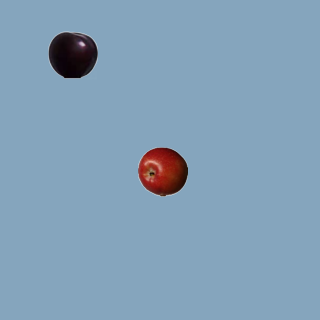Apple Braeburn: (137, 146, 187, 196)
Cherry Wax Black: (47, 29, 97, 79)
